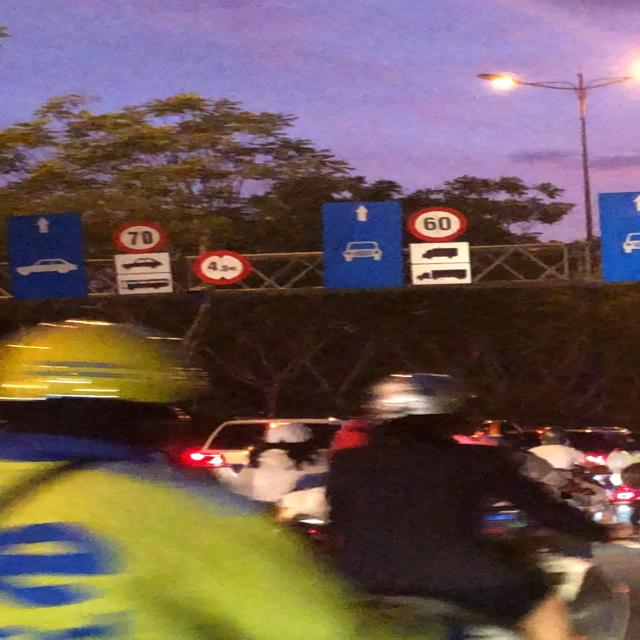Bien bao han che chieu cao: (188, 246, 252, 287)
Bien bao toc do toi da cho phep: (398, 202, 479, 247), (106, 216, 168, 254)
